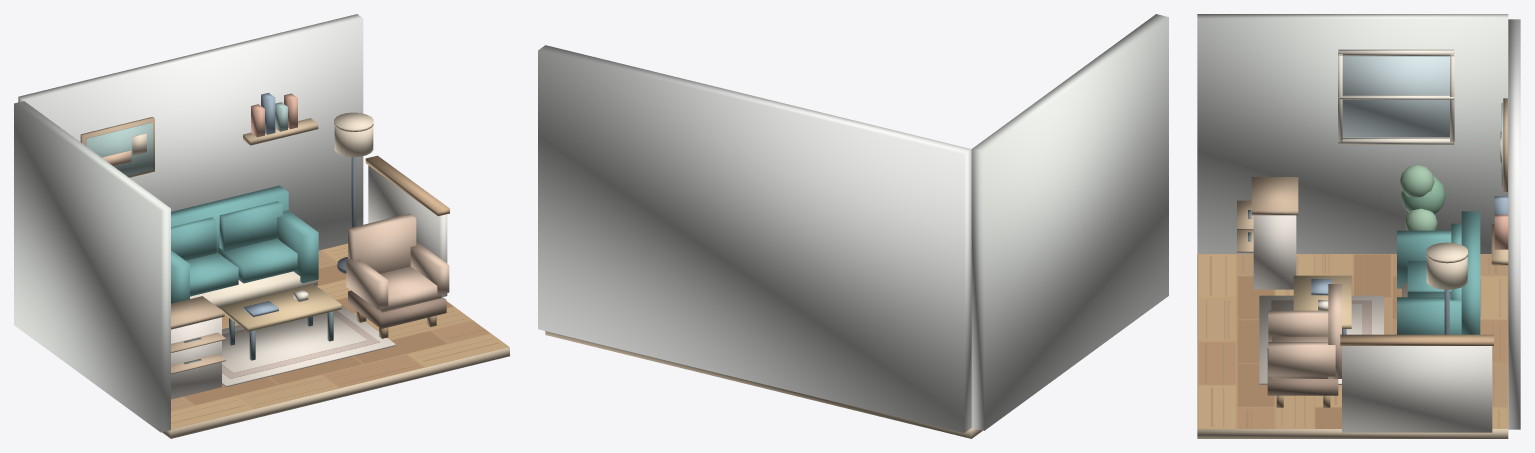
File: room.glb
3 renders of one model, left to right at view 1: azimuth 30°, elevation 25°; view 2: azimuth 150°, elevation 25°; view 3: azimuth 270°, elevation 25°, orthographic. The views are drawn at different scales.
Parts seen in each view (by area): view 1: 003_back_wall, 004_left_wall, 002_textured_wood_floor, 015_rug_center, 001_floor_foundation, 005_low_right_zoning_partition, 035_armchair_back, 042_cabinet_body, 026_coffee_table_top, 023_sofa_back_cushion, 022_sofa_seat_cushion, 019_sofa_back (+21 smaller); view 2: 003_back_wall, 004_left_wall, 001_floor_foundation; view 3: 004_left_wall, 002_textured_wood_floor, 005_low_right_zoning_partition, 007_left_window_glass, 003_back_wall, 042_cabinet_body, 001_floor_foundation, 037_armchair_armrest, 018_sofa_armrest, 019_sofa_back, 043_cabinet_top, 006_partition_top (+26 smaller).
Boxes of the visible parts, box(x1,y1,x2,y2) form: 003_back_wall: box(18, 14, 363, 250); 004_left_wall: box(14, 101, 170, 432); 002_textured_wood_floor: box(171, 243, 508, 429); 015_rug_center: box(222, 313, 367, 372); 001_floor_foundation: box(162, 347, 509, 438); 005_low_right_zoning_partition: box(368, 165, 447, 296); 035_armchair_back: box(348, 213, 416, 273); 042_cabinet_body: box(171, 317, 221, 399); 026_coffee_table_top: box(221, 284, 341, 331); 023_sofa_back_cushion: box(219, 201, 282, 251); 022_sofa_seat_cushion: box(218, 238, 297, 283); 019_sofa_back: box(171, 185, 288, 252); 003_back_wall: box(538, 45, 971, 432); 004_left_wall: box(971, 14, 1168, 430); 001_floor_foundation: box(545, 331, 982, 438); 004_left_wall: box(1197, 14, 1508, 253); 002_textured_wood_floor: box(1197, 254, 1507, 428); 005_low_right_zoning_partition: box(1342, 346, 1492, 432); 007_left_window_glass: box(1342, 56, 1449, 137); 003_back_wall: box(1508, 19, 1520, 429); 042_cabinet_body: box(1253, 215, 1296, 289); 001_floor_foundation: box(1197, 254, 1508, 438); 037_armchair_armrest: box(1268, 342, 1335, 376); 018_sofa_armrest: box(1397, 297, 1461, 334); 019_sofa_back: box(1461, 211, 1480, 334); 043_cabinet_top: box(1251, 177, 1298, 215); 006_partition_top: box(1340, 334, 1493, 345).
Size of the model in its own units: 4.21 by 2.6 by 3.12.
Materials: 32 (1 with a texture image).
